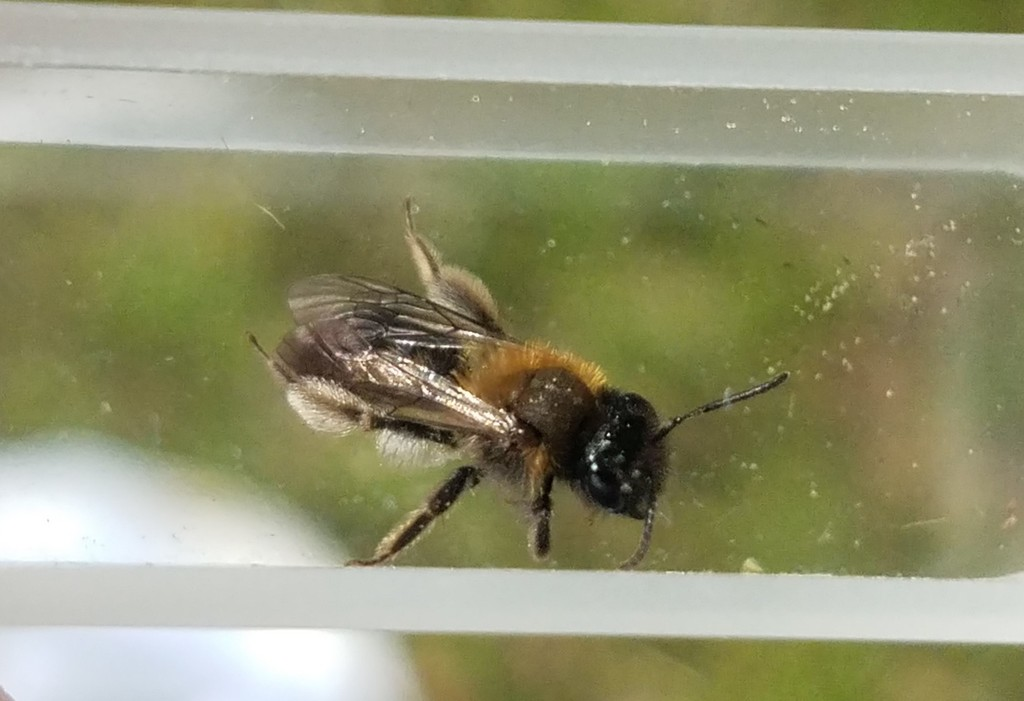not_bumblebee: (248, 192, 789, 574)
